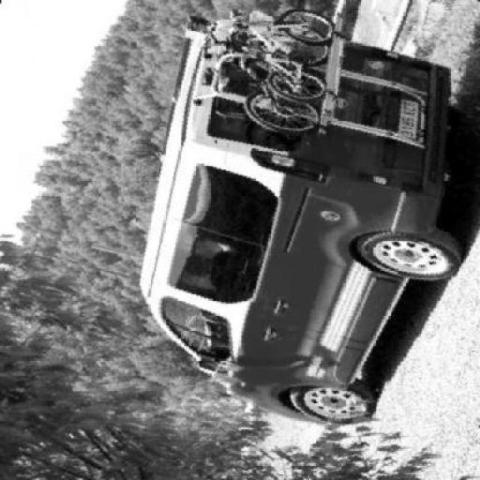van: (140, 20, 464, 429)
